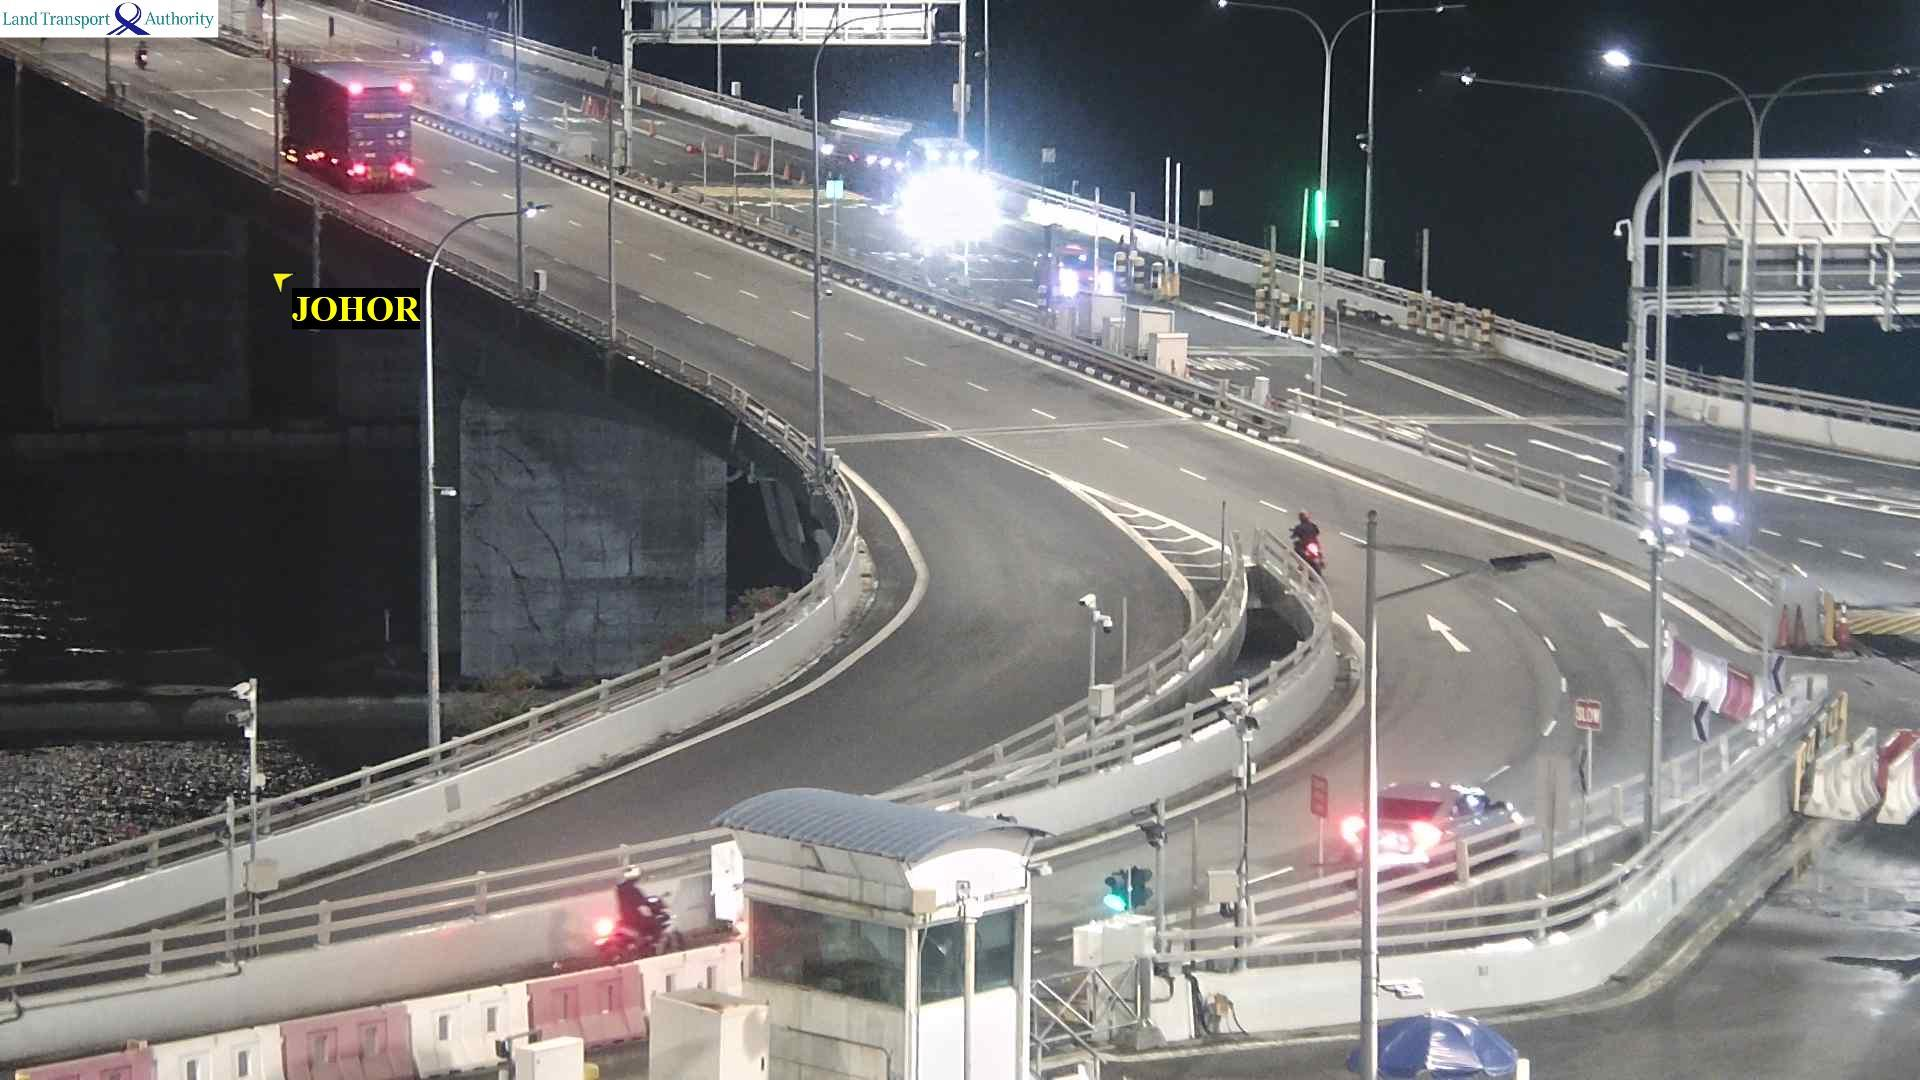vehicle-secondlink-johor: (282, 57, 413, 189), (1386, 783, 1532, 865), (599, 870, 682, 957), (1294, 508, 1324, 572)
vehicle-secondlink-singapore: (824, 115, 975, 210), (1619, 464, 1721, 541), (1033, 245, 1113, 303), (471, 86, 524, 120), (425, 41, 439, 70)
